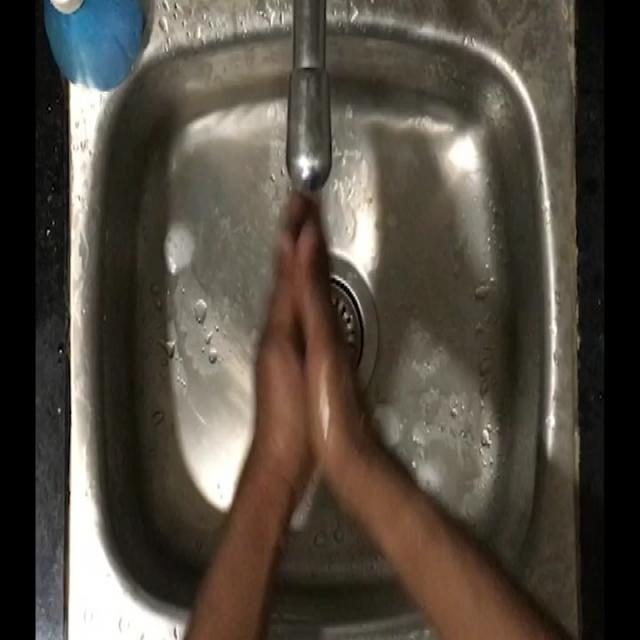step_1: (246, 153, 370, 457)
